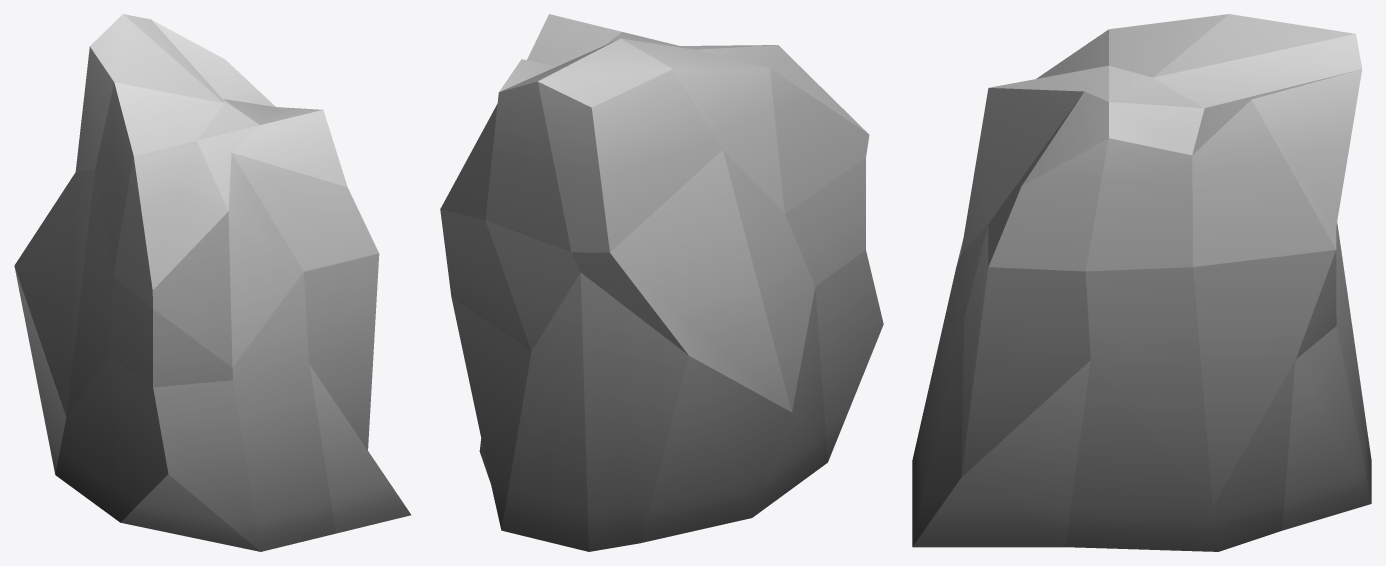
The model's file is rock_02.fbx.
3 renders of one model, left to right at view 1: azimuth 30°, elevation 25°; view 2: azimuth 150°, elevation 25°; view 3: azimuth 270°, elevation 25°, orthographic. The views are drawn at different scales.
Parts seen in each view (by area): view 1: rock_02; view 2: rock_02; view 3: rock_02.
Part boxes in pixels (x1,y1,x2,y2): rock_02: (14,14,411,551); rock_02: (440,14,883,551); rock_02: (912,14,1371,551).
Size of the model in its own units: 130 by 195 by 178.
